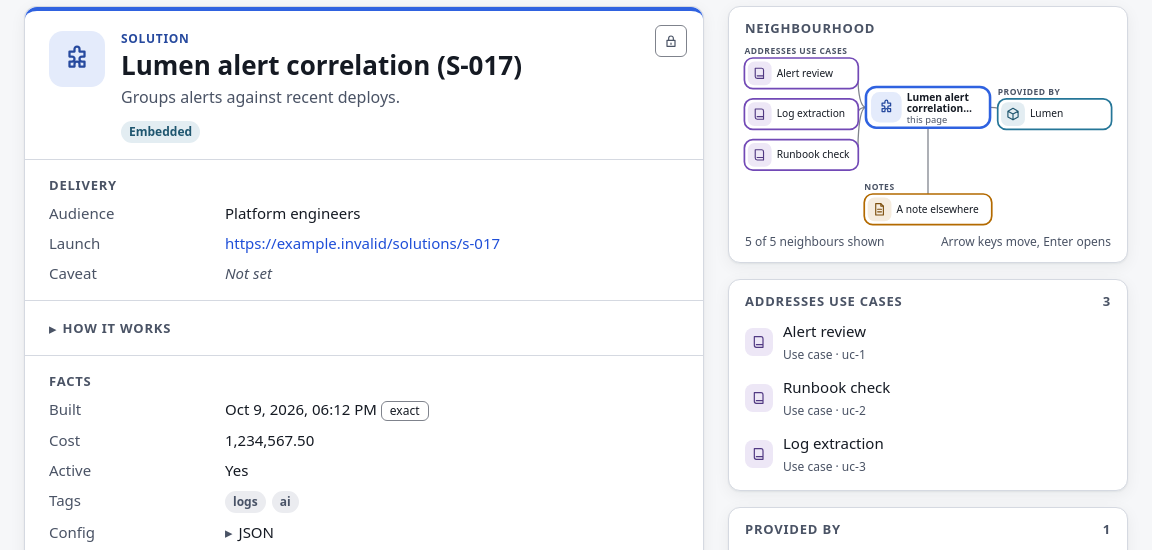
Scenario: removing a link in place › shows no add or remove control until edit mode is on, and none where nothing is declared
Expected: the link "Alert review" is shown, [745,321,866,363]
Click the button named "Edit mode" at (671, 41), box [655,25,687,57]
(page scrolled)
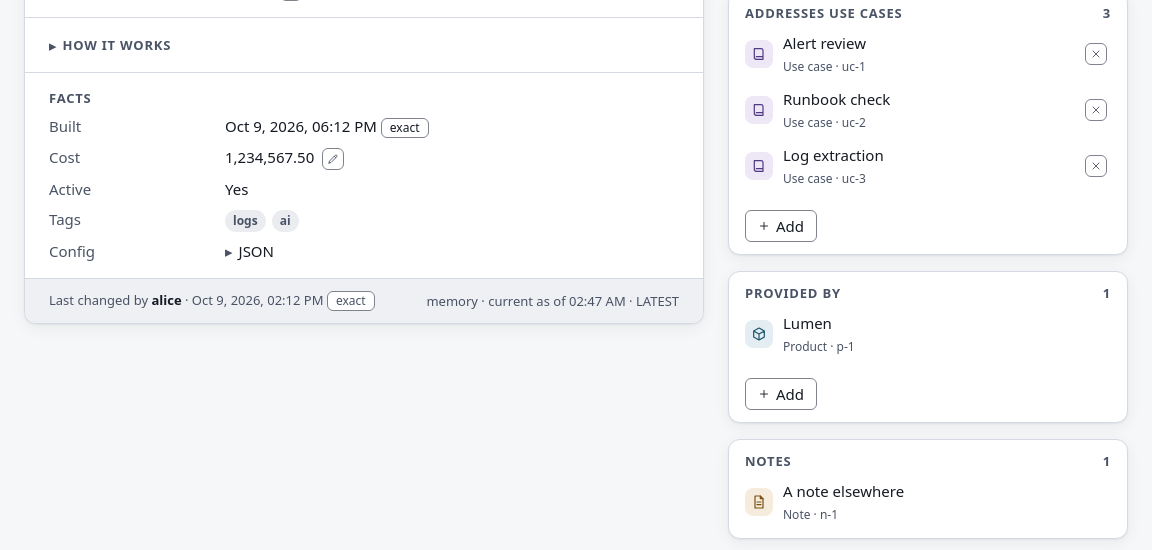
Expected: the button with aria-label "Add to Addresses use cases" is shown, [745,210,817,242]
Expected: the number of buttons named "Remove link to " is 3, [1085,43,1107,65]; [1085,99,1107,121]; [1085,155,1107,177]
Expected: the button with aria-label "Add to Provided by" is shown, [745,378,817,410]
